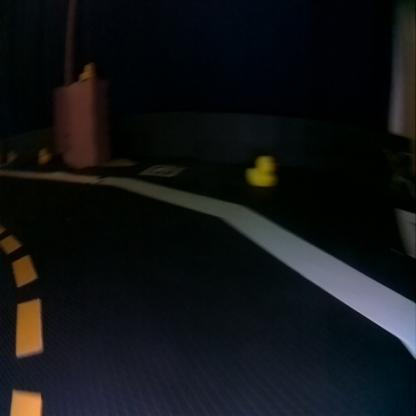Duckie: (246, 154, 276, 187), (79, 62, 94, 79), (38, 148, 48, 163)
QR code: (143, 162, 185, 177)
